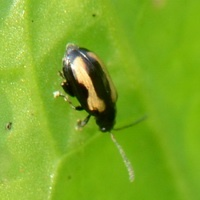insect: (53, 43, 134, 181)
